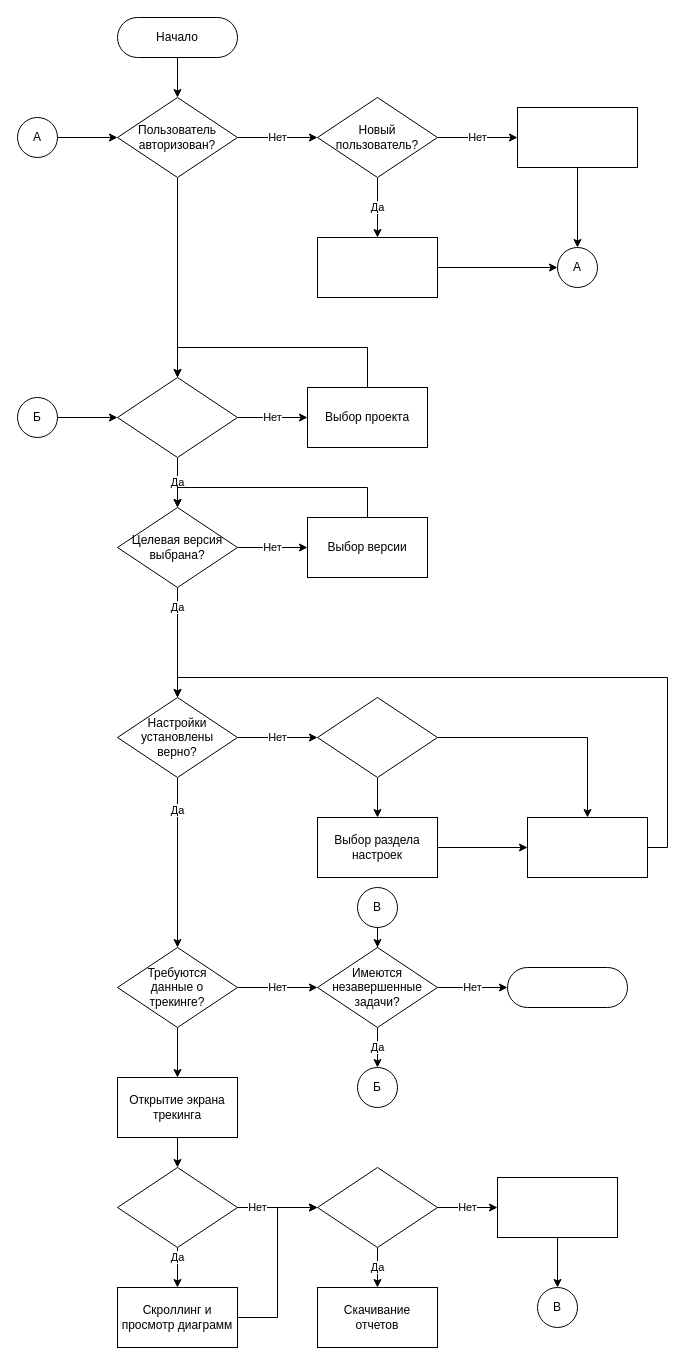
The diagram is 693 pixels wide and 1365 high, and some of its shapes have lost their labels. Each missing label, with the centre of its shape:
"Авторизация" belongs at point (577, 137).
"Выбран верный раздел настроек?" belongs at point (377, 737).
"Закрытие экрана трекинга" belongs at point (557, 1207).
"Изменение настройки" belongs at point (587, 847).
"Конец" belongs at point (567, 987).
"Регистрация" belongs at point (377, 267).
"Требуются данные в виде диаграмм?" belongs at point (177, 1207).
"Требуются файлы отчетов?" belongs at point (377, 1207).
"Целевой проект выбран?" belongs at point (177, 417).
